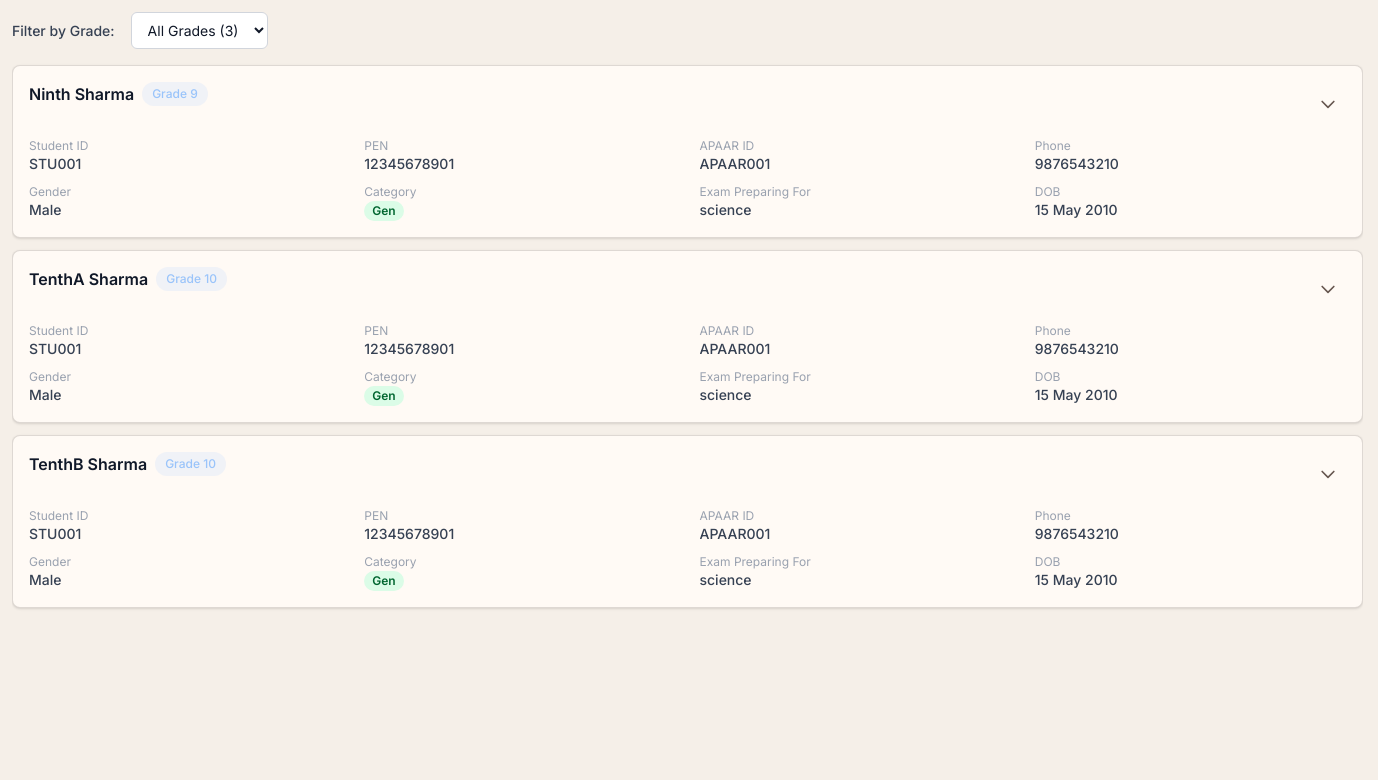
Test: StudentTable - grade filter › shows count message when filtering
Step 1. Select "Grade 10 (2)" in the dropdown labelled "Filter by Grade:" → coordinates (199, 30), box [131, 12, 268, 49]
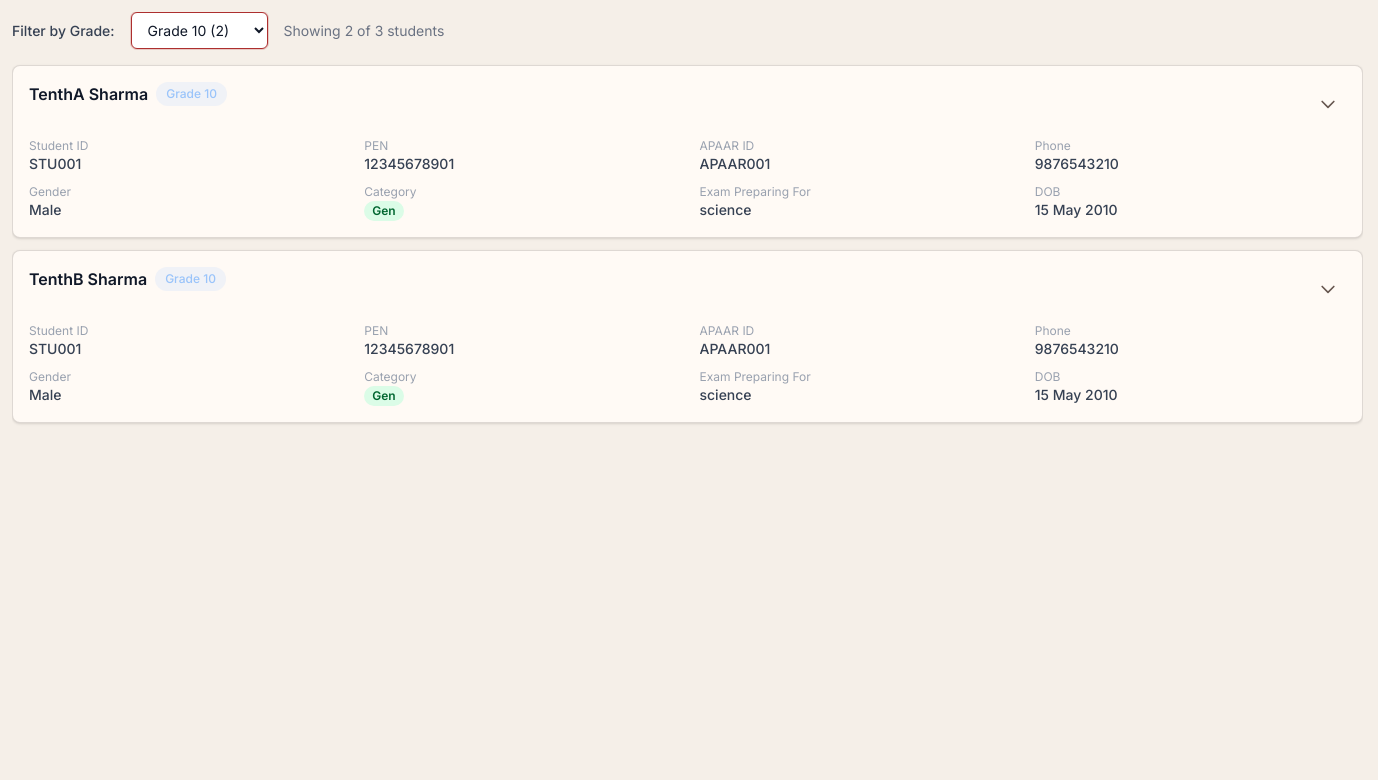
Now the text "Showing 2 of 3 students" is shown, box [284, 20, 444, 40]
